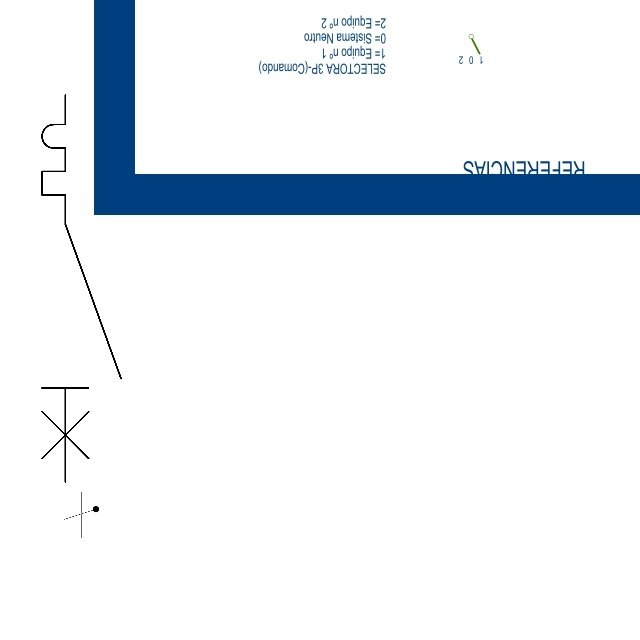interruptor_termomagnetico: (32, 85, 131, 492)
